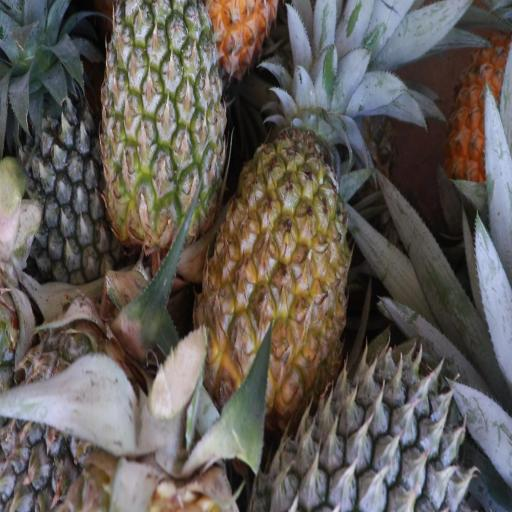------------------------------: (100, 0, 226, 246)
Pineapple - v8 v1: (202, 116, 353, 400), (447, 30, 512, 190)
